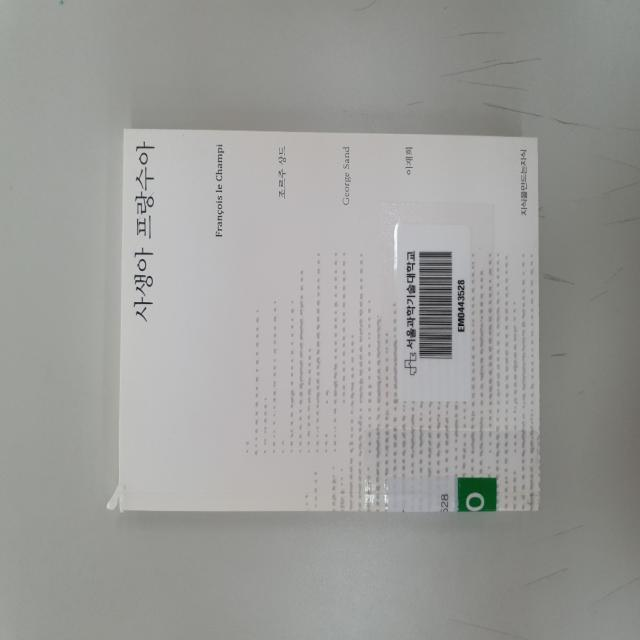Ripped: (102, 467, 134, 519)
